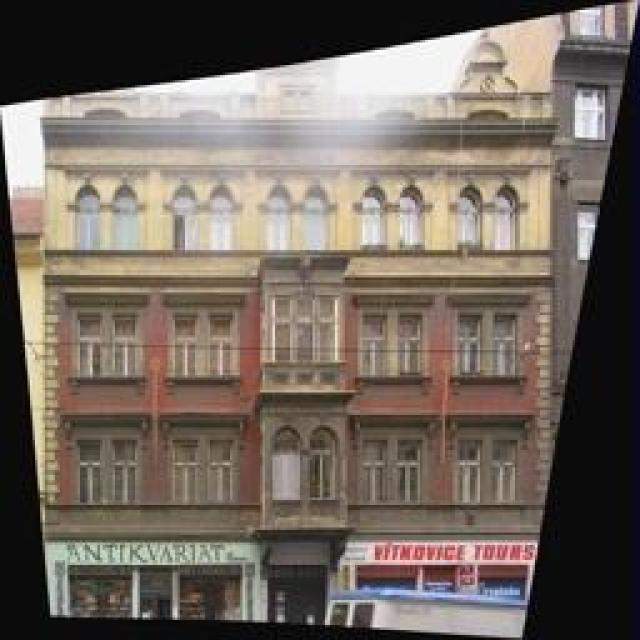building: (50, 45, 558, 640)
